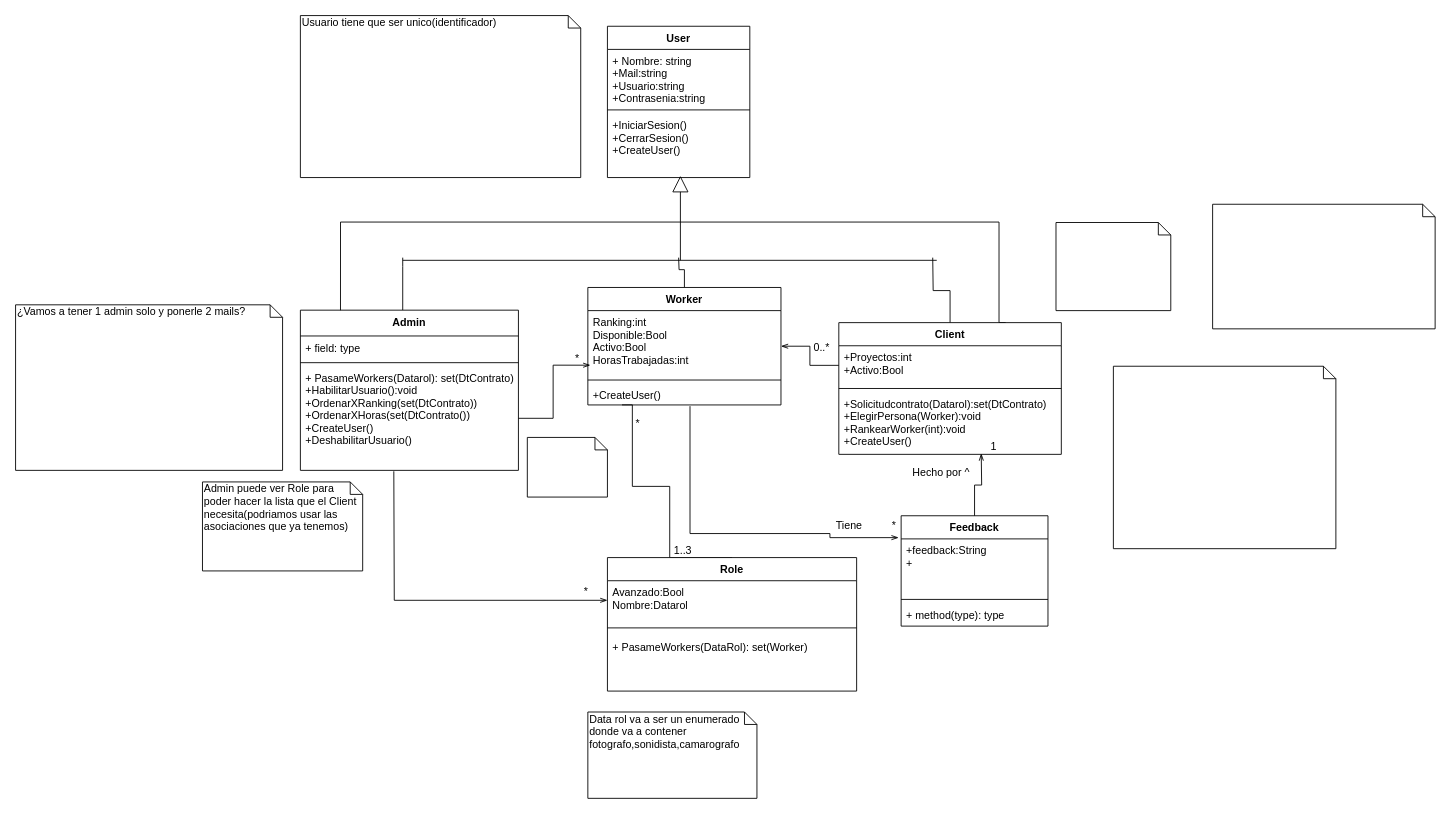
Image size: 1451x814. Some labels were removed from this diagram. The centre of each missing label's shape, as x and y in pixels:
"DtContrato tiene una lista de Workers para rol solicitado" goes at point 1113,266.
"ElegirPersona(Worker) me hace el link entre el Cliente y el Worker deseado" goes at point 1323,266.
"Para ver feedbacks" goes at point 566,467.
"RankearWorker rankea al worker que fue usado por el cliente" goes at point 1224,457.
